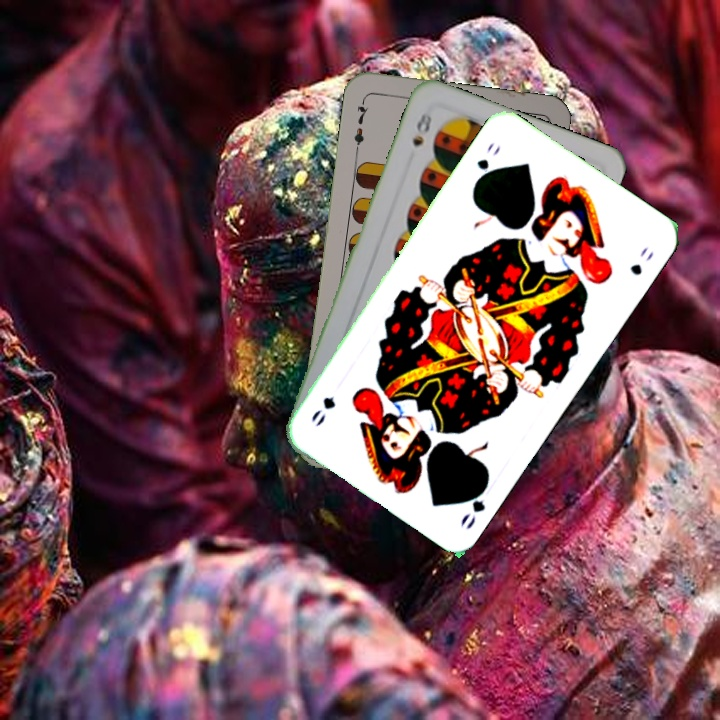E7: (349, 95, 371, 154)
GO: (456, 476, 492, 532), (471, 139, 504, 187)
S8: (408, 103, 435, 149)
